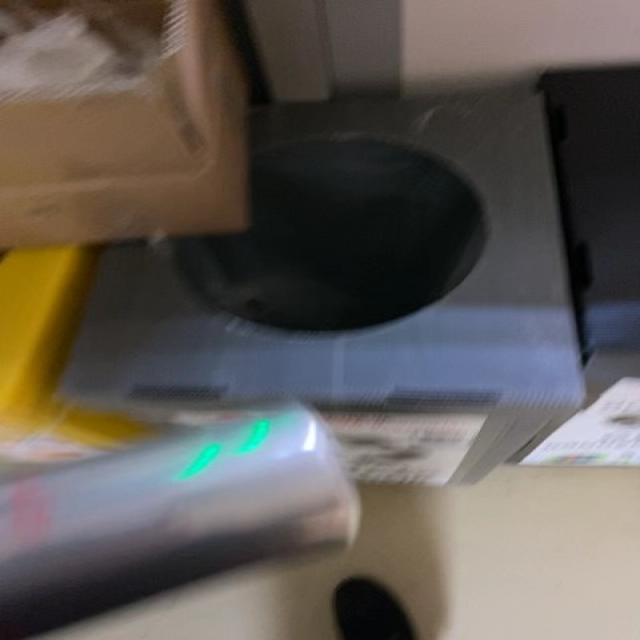bin: (60, 89, 585, 484)
metal: (1, 406, 360, 640)
